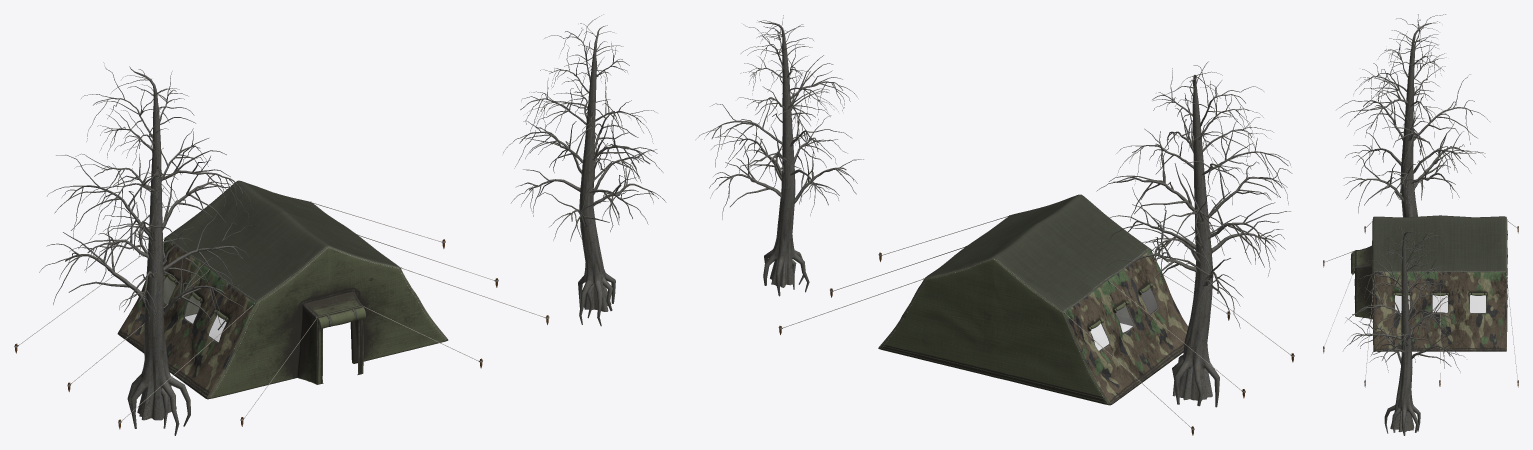
The model's file is tent.glb.
3 renders of one model, left to right at view 1: azimuth 30°, elevation 25°; view 2: azimuth 150°, elevation 25°; view 3: azimuth 270°, elevation 25°, orthographic. The views are drawn at different scales.
Visible parts, largest first — view 1: Military_tent, Linden_LOD0, Linden_LOD0_M_Bark.005_0.001; view 2: Military_tent, Linden_LOD0, Linden_LOD0_M_Bark.005_0.001; view 3: Military_tent, Linden_LOD0, Linden_LOD0_M_Bark.005_0.001.
Part boxes in pixels (x1,y1,x2,y2): Military_tent: (14, 180, 549, 429); Linden_LOD0: (39, 62, 254, 435); Linden_LOD0_M_Bark.005_0.001: (503, 14, 666, 326); Military_tent: (778, 194, 1294, 435); Linden_LOD0: (1096, 61, 1292, 407); Linden_LOD0_M_Bark.005_0.001: (698, 15, 863, 296); Military_tent: (1323, 215, 1518, 387); Linden_LOD0: (1336, 14, 1489, 217); Linden_LOD0_M_Bark.005_0.001: (1343, 223, 1465, 435).
Bounding box in the file's own units: 29.4 × 17.13 × 11.6.
52 materials, 3 textured.
